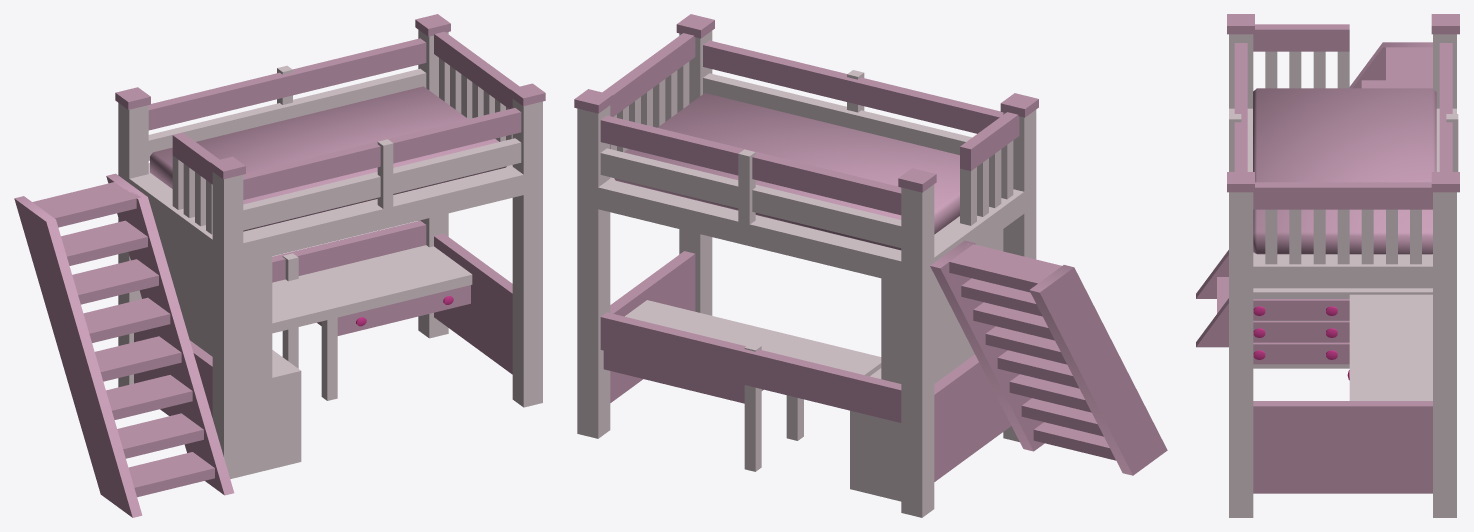
The model's file is lit_mezzanine.fbx.
3 views of the same model, side by side, from view 1: azimuth 30°, elevation 25°; view 2: azimuth 150°, elevation 25°; view 3: azimuth 270°, elevation 25° (orthographic). The views are drawn at different scales.
Parts seen in each view (by area): view 1: polymsh; view 2: polymsh; view 3: polymsh.
Part boxes in pixels (x1,y1,x2,y2): polymsh: (14,14,545,517); polymsh: (574,14,1167,517); polymsh: (1196,14,1459,517).
Size of the model in its own units: 44.17 by 30.65 by 21.88.
